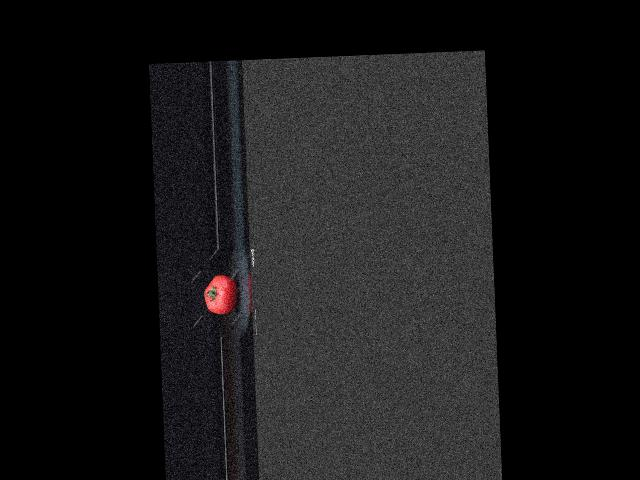tomato: (203, 274, 238, 315)
